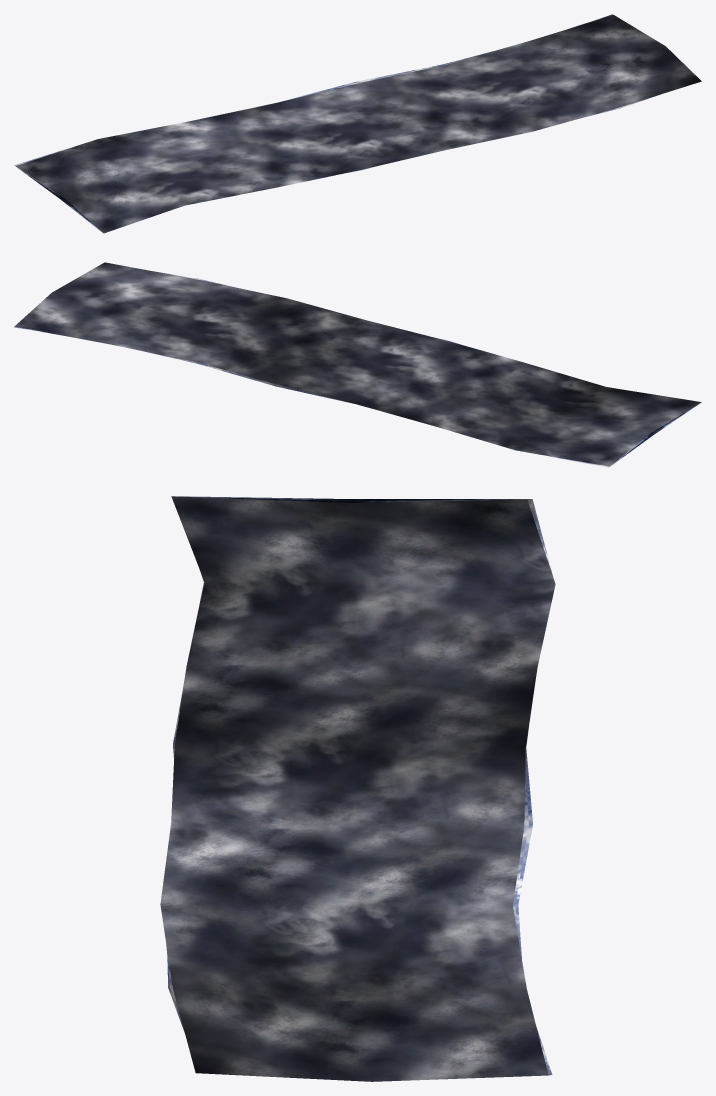
File: LONE_MOUNTAIN_WATERFALLS_MAIN_WATERFALL_BILLOWS.fbx
The picture shows the model from 3 angles, top to bottom: view 1: azimuth 30°, elevation 25°; view 2: azimuth 150°, elevation 25°; view 3: azimuth 270°, elevation 25°; orthographic projection. The views are drawn at different scales.
Visible parts, largest first — view 1: LONE_MOUNTAIN_WATERFALLS_MAIN_WATERFALL_BILLOWS; view 2: LONE_MOUNTAIN_WATERFALLS_MAIN_WATERFALL_BILLOWS; view 3: LONE_MOUNTAIN_WATERFALLS_MAIN_WATERFALL_BILLOWS.
Part boxes in pixels (x1,y1,x2,y2): LONE_MOUNTAIN_WATERFALLS_MAIN_WATERFALL_BILLOWS: [14, 14, 701, 233]; LONE_MOUNTAIN_WATERFALLS_MAIN_WATERFALL_BILLOWS: [14, 262, 701, 467]; LONE_MOUNTAIN_WATERFALLS_MAIN_WATERFALL_BILLOWS: [160, 496, 555, 1081].
Bounding box in the file's own units: 112869 × 29.45 × 32180.
Materials: 2 (2 with a texture image).
